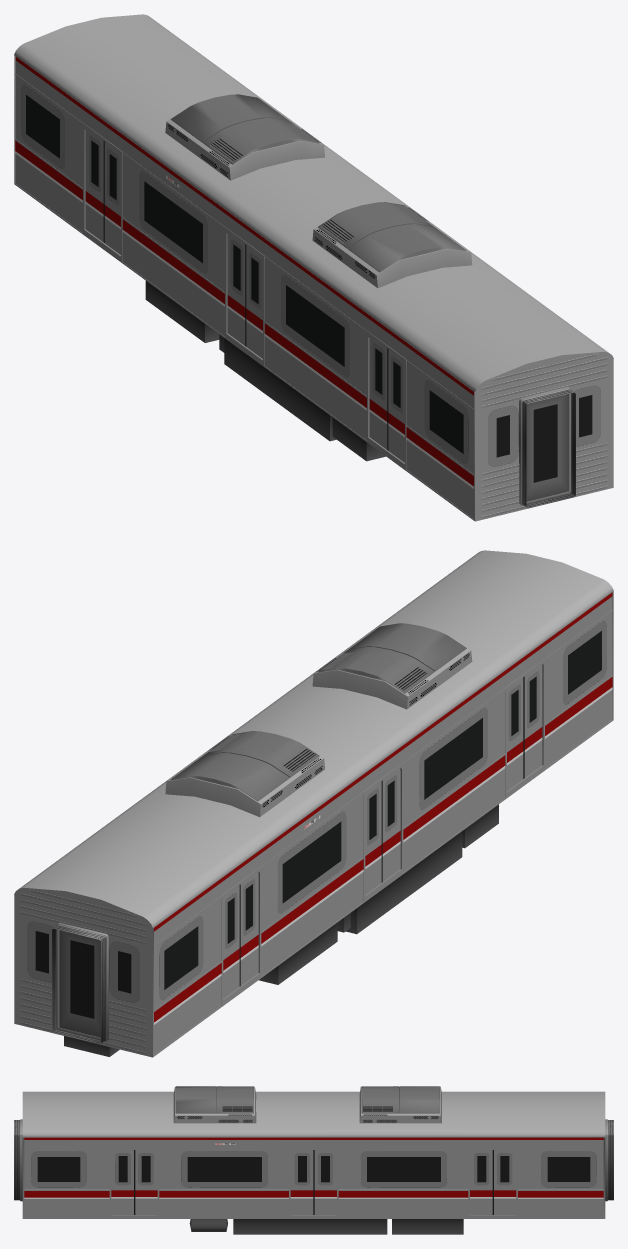
Rendered from AMB_HS9000_01.glb.
3 views of the same model, one above another, from view 1: azimuth 30°, elevation 25°; view 2: azimuth 150°, elevation 25°; view 3: azimuth 270°, elevation 25° (orthographic). The views are drawn at different scales.
Visible parts, largest first — view 1: in_Flash; view 2: in_Flash; view 3: in_Flash.
Boxes of the visible parts, x1=… form: in_Flash: x1=14, y1=14, x2=613, y2=521; in_Flash: x1=14, y1=550, x2=613, y2=1057; in_Flash: x1=14, y1=1086, x2=613, y2=1234.
Bounding box in the file's own units: 6.6 × 8.83 × 39.01.
Materials: 20 (20 with a texture image).
